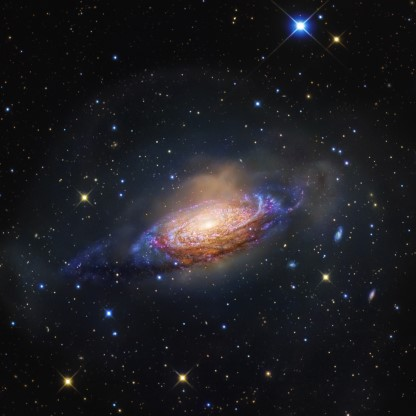NGC 3521: (43, 137, 342, 309)
